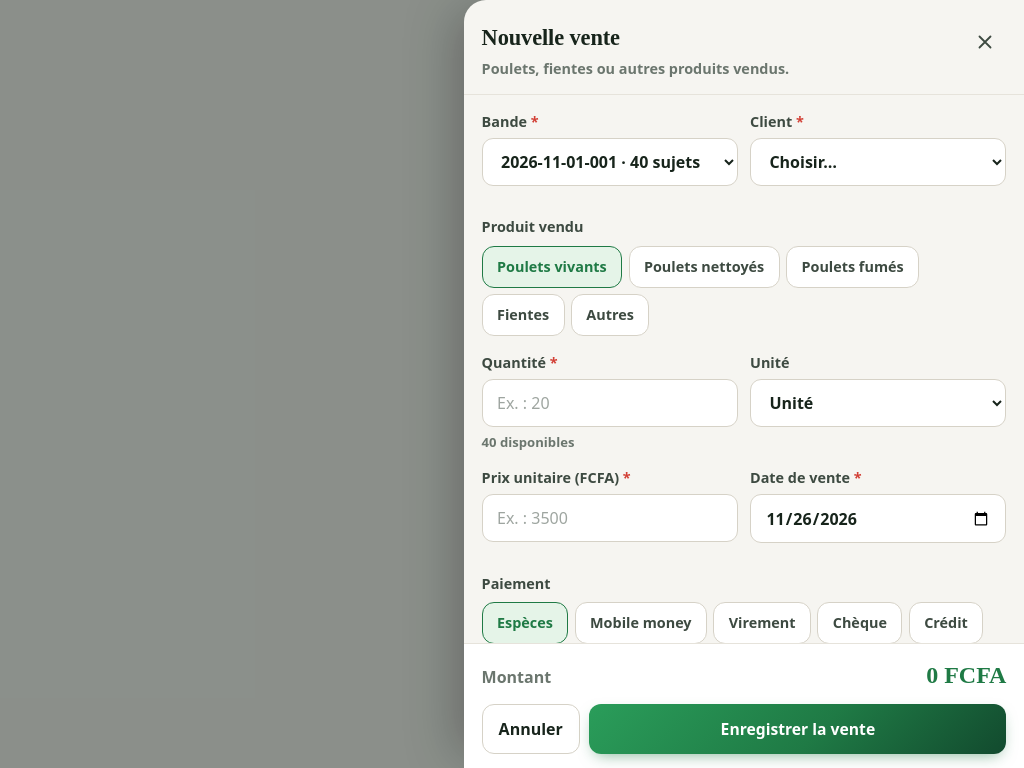
Test: formulaires de création › vente : montant calculé pendant la saisie
This screenshot has width=1024, height=768.
Type "10" into the field with placeholder "Ex. : 20" at (610, 403), box left=482, top=379, right=738, bottom=427
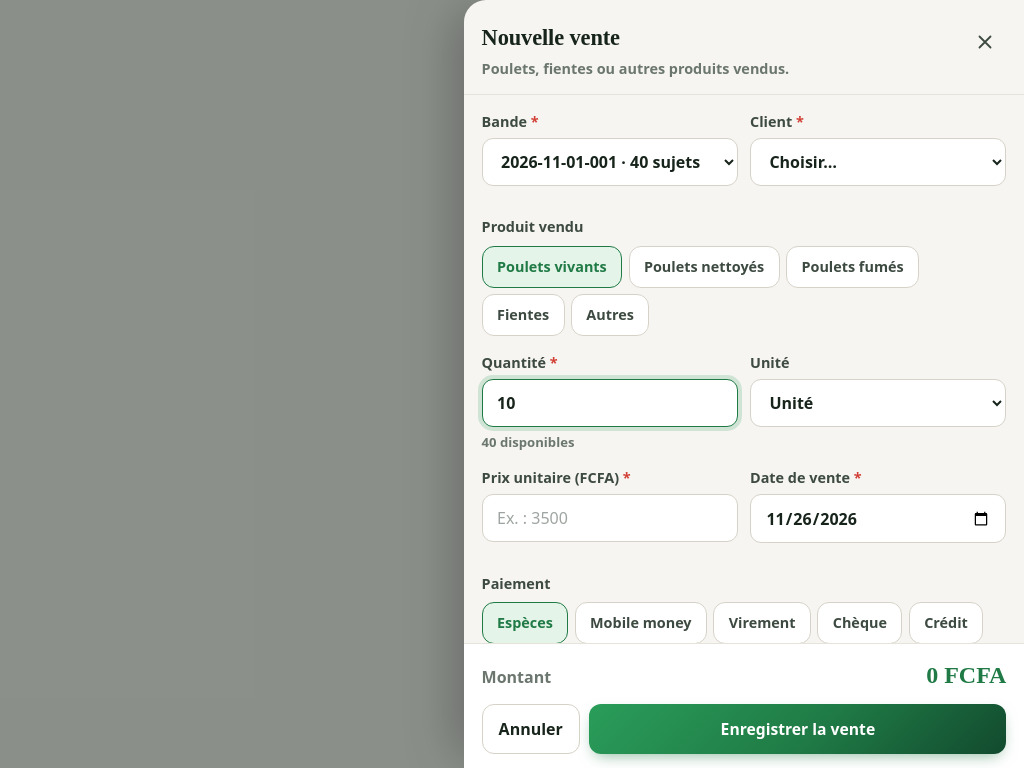
Type "2500" into the field with placeholder "Ex. : 3500" at (610, 518), box left=482, top=494, right=738, bottom=542
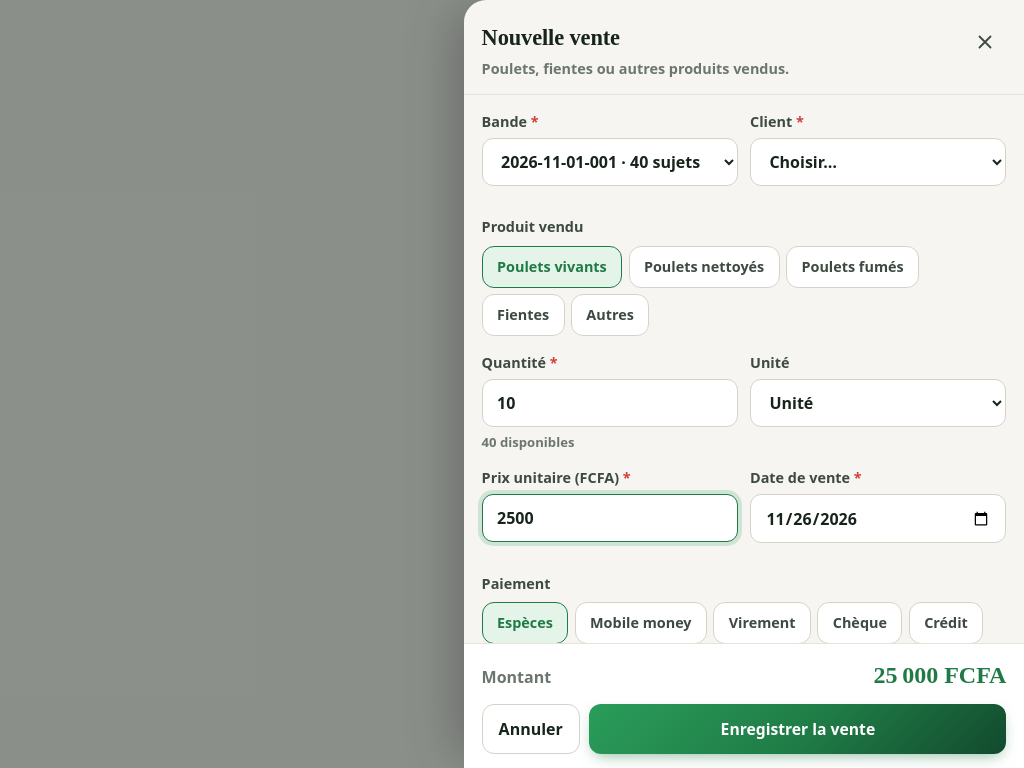
Expected: the text "25 000 FCFA" is shown, left=873, top=657, right=1006, bottom=693
